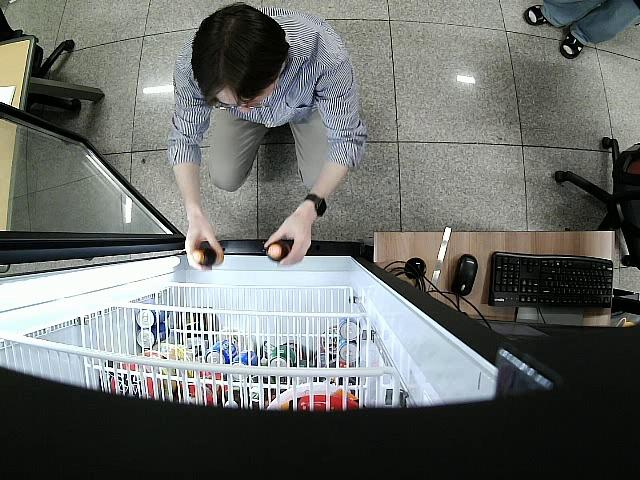00_hand: (262, 216, 312, 266), (184, 224, 223, 272)
17_vita500: (191, 246, 225, 267), (265, 240, 292, 263)
